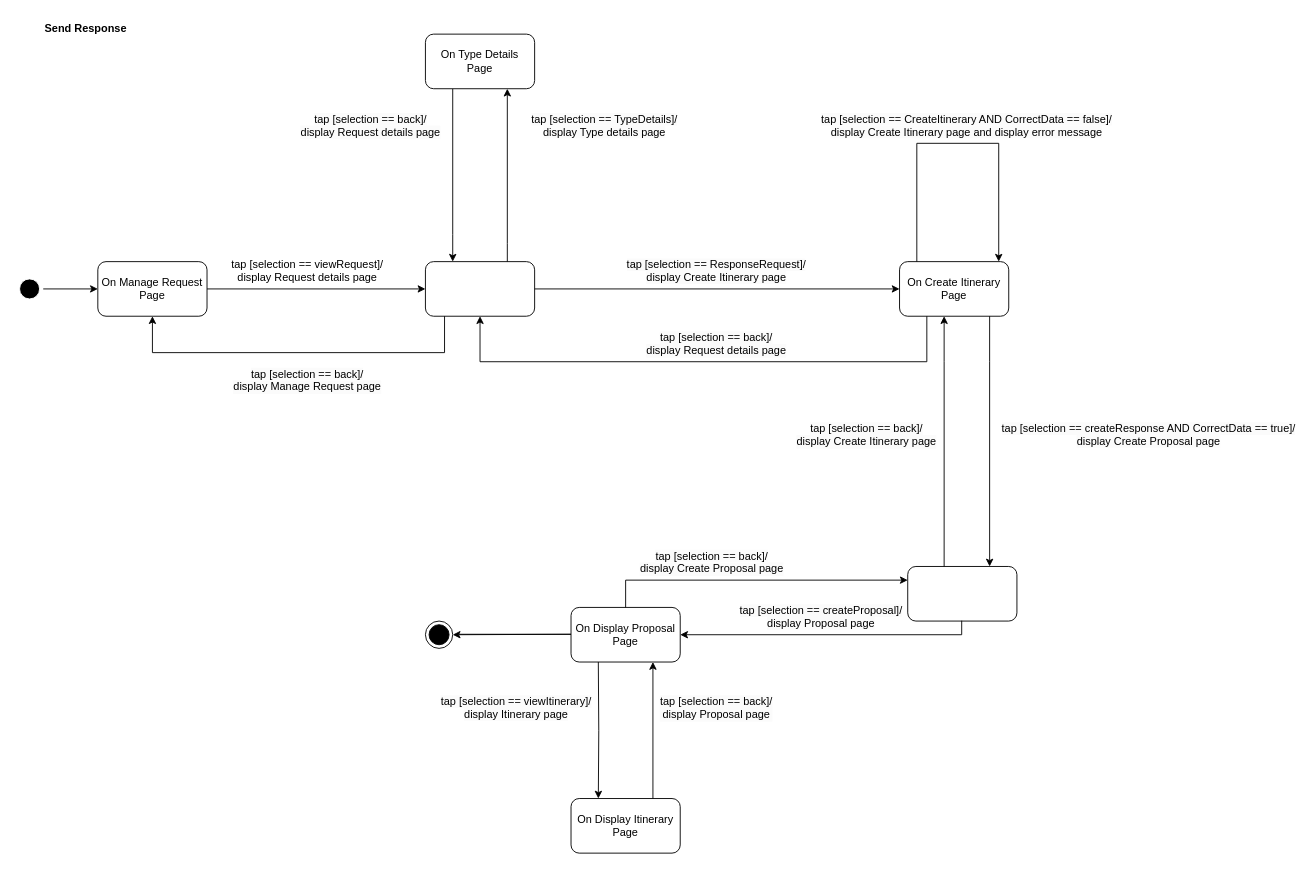
Some shapes in this 1315 by 869 pixel diagram are drawn without their labels. Each missing label, with the centre of its shape:
On Create Proposal Page: [962,593]
On Request Details Page: [480,288]
